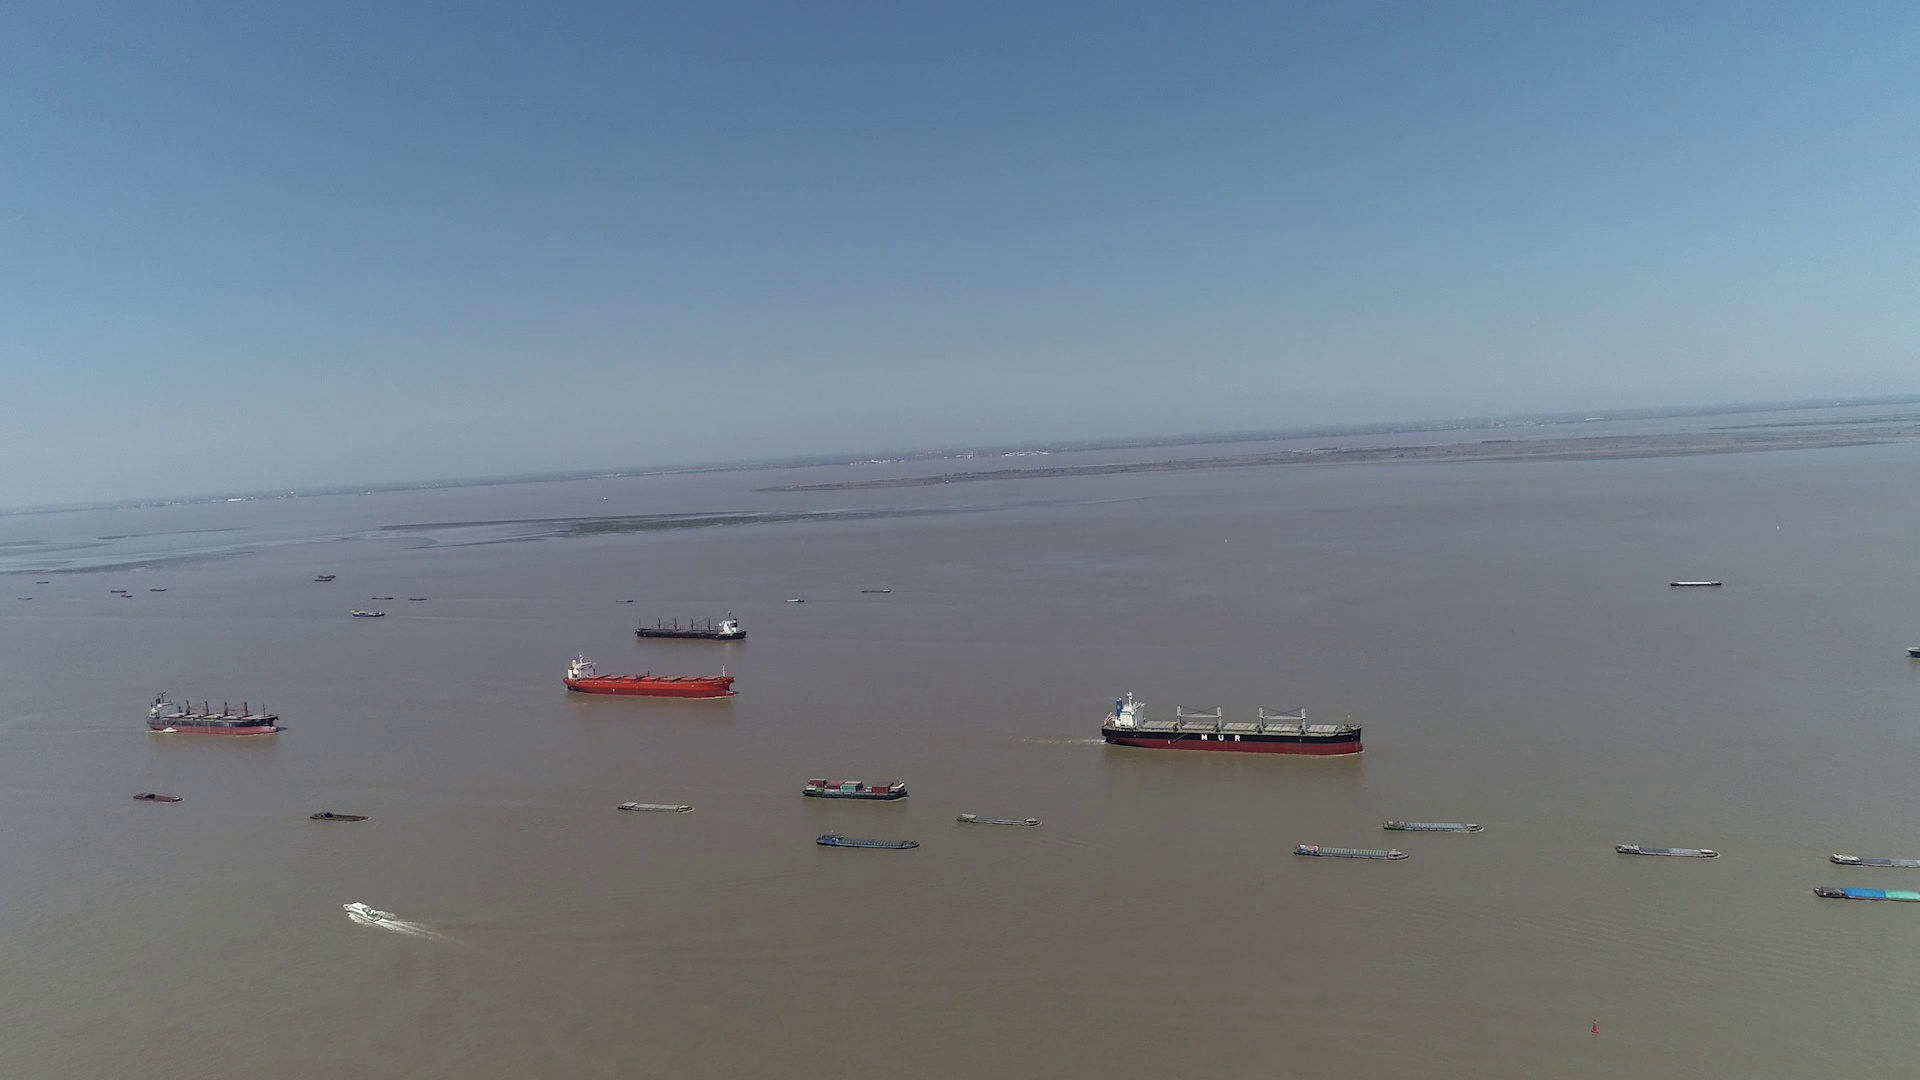ship: (1104, 691, 1362, 756), (560, 655, 731, 699), (146, 690, 282, 736), (636, 613, 746, 641), (1815, 880, 1917, 905), (800, 777, 907, 800), (1294, 841, 1408, 862), (816, 833, 916, 851), (1617, 841, 1716, 858), (1382, 818, 1480, 833), (1830, 852, 1916, 868), (955, 810, 1040, 825), (615, 799, 692, 812), (345, 899, 386, 924), (309, 810, 371, 822), (133, 791, 183, 804), (352, 608, 381, 618), (1672, 580, 1721, 585)
